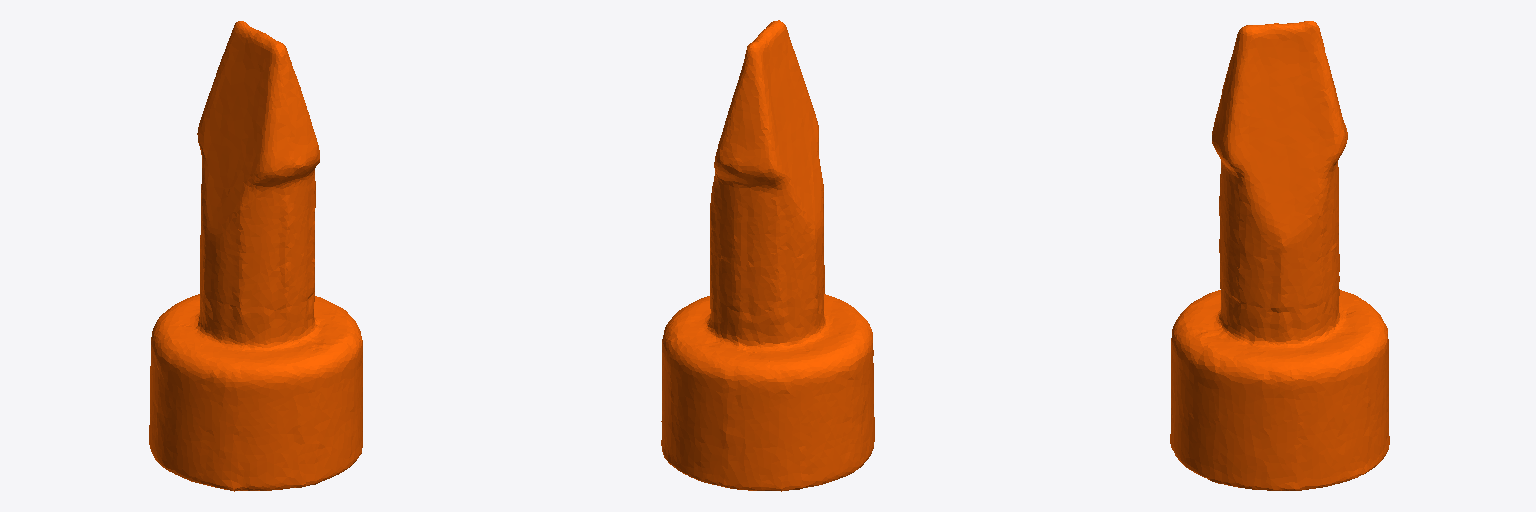
URDF robot description (072-e_toy_airplane):
<?xml version="1.0" ?>
<robot name="072-e_toy_airplane">
   <material name="obj_color">
      <color rgba="1.0 0.423529411765 0.0392156862745 1.0"/>
   </material>
   <link name="top">
      <inertial>
         <origin rpy="3.310358754689947e-06 1.071900378508223e-05 1.08026462394804e-05" xyz="-1.091247224050162e-05 -0.0002433892748798408 0.002431178972437307"/>
         <mass value="0.03608107515611392"/>
         <inertia ixx="1.079916916082285e-05" ixy="1.462937658726811e-08" ixz="-8.104477314798931e-08" iyy="1.072158872159775e-05" iyz="1.040855325610985e-08" izz="3.311250896831978e-06"/>
      </inertial>
      <visual>
         <origin rpy="0 0 0" xyz="0 0 0"/>
         <geometry>
            <mesh filename="top_watertight_tiny.stl" scale="1 1 1"/>
         </geometry>
         <material name="obj_color"/>
      </visual>
      <collision>
         <origin rpy="0 0 0" xyz="0 0 0"/>
         <geometry>
            <mesh filename="top_watertight_tiny.obj" scale="1 1 1"/>
         </geometry>
      </collision>
   </link>
   <link name="bottom">
      <inertial>
         <origin rpy="1.633333333199431e-08 1.633333333199431e-08 1.633333333362855e-08" xyz="0.3464080000000008 0.3464080000000008 0.3464080000000008"/>
         <mass value="0.0009800000000000017"/>
         <inertia ixx="1.633333333253906e-08" ixy="5.447480642029219e-19" ixz="5.447480642029219e-19" iyy="1.633333333253906e-08" iyz="5.447480642029219e-19" izz="1.633333333253906e-08"/>
      </inertial>
      <visual>
         <origin rpy="0 0 0" xyz="0 0 0"/>
         <geometry>
            <mesh filename="bottom_watertight_tiny.stl" scale="1 1 1"/>
         </geometry>
         <material name="obj_color"/>
      </visual>
   </link>
   <link name="world"/>
   <joint name="world_to_base" type="fixed">
      <origin xyz="0 0 0"/>
      <axis xyz="0 0 0"/>
      <parent link="world"/>
      <child link="bottom"/>
   </joint>
   <joint name="rotation" type="revolute">
      <origin xyz="0 0 0"/>
      <axis xyz="0 0 -1"/>
      <parent link="bottom"/>
      <child link="top"/>
      <dynamics damping="1.0" friction="1.0"/>
      <limit effort="0.1" velocity="0.1" lower="0" upper="0.001"/>
   </joint>
</robot>

--- What the picture shows (computed from the rendered views, not written in the file) ---
3 views of the same robot in one strip: view 1: azimuth 30°, elevation 25°; view 2: azimuth 150°, elevation 25°; view 3: azimuth 270°, elevation 25° (orthographic).
Model 072-e_toy_airplane with 3 links and 2 joints (1 revolute, 1 fixed), rooted at world, posed every joint at zero.
Links seen in each view (by area): view 1: top; view 2: top; view 3: top.
Boxes of the visible links, x1,y1,x2,y2 form: top: (149,21,362,491); top: (661,20,874,491); top: (1170,21,1389,490).
Bounding box of the posed robot: 0.0308 × 0.0308 × 0.0662 m (x, y, z).
1 mesh visuals loaded from 2 distinct referenced files (1 binary STL); not drawn: 1 (reference not matched to a file when rendering).
